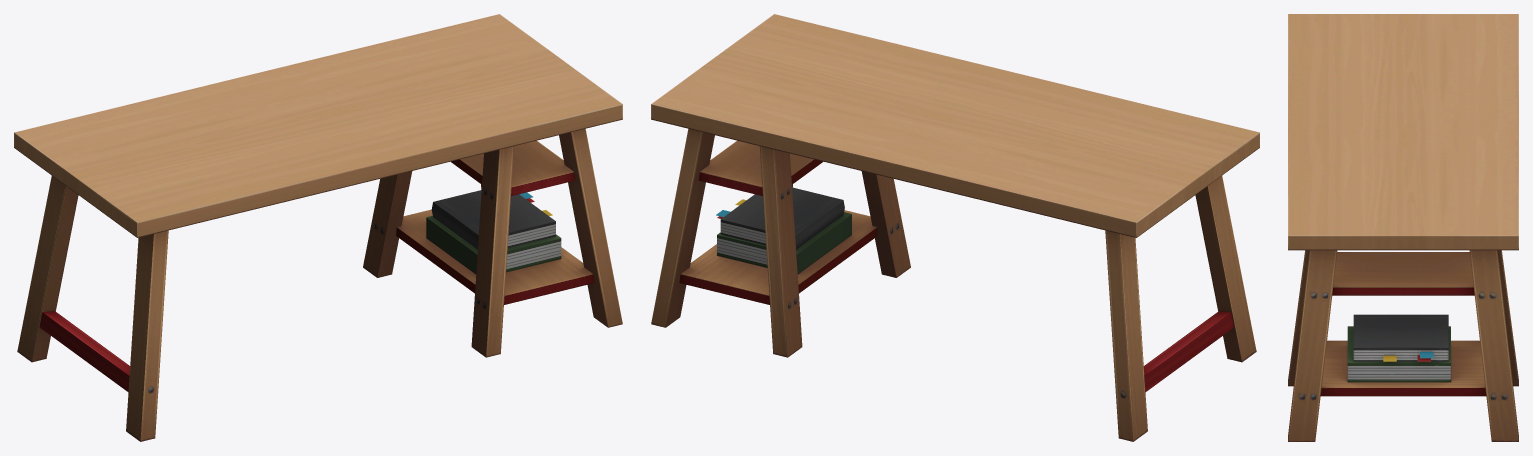
Rendered from desk.gltf.
3 renders of one model, left to right at view 1: azimuth 30°, elevation 25°; view 2: azimuth 150°, elevation 25°; view 3: azimuth 270°, elevation 25°, orthographic. The views are drawn at different scales.
Visible parts, largest first — view 1: s4studio_mesh_0; view 2: s4studio_mesh_0; view 3: s4studio_mesh_0.
Boxes of the visible parts, bbox=[...] form: s4studio_mesh_0: bbox=[14, 14, 622, 441]; s4studio_mesh_0: bbox=[651, 14, 1259, 441]; s4studio_mesh_0: bbox=[1288, 14, 1518, 441].
Size of the model in its own units: 1.85 by 0.8 by 0.8119.
1 material, 1 textured.
